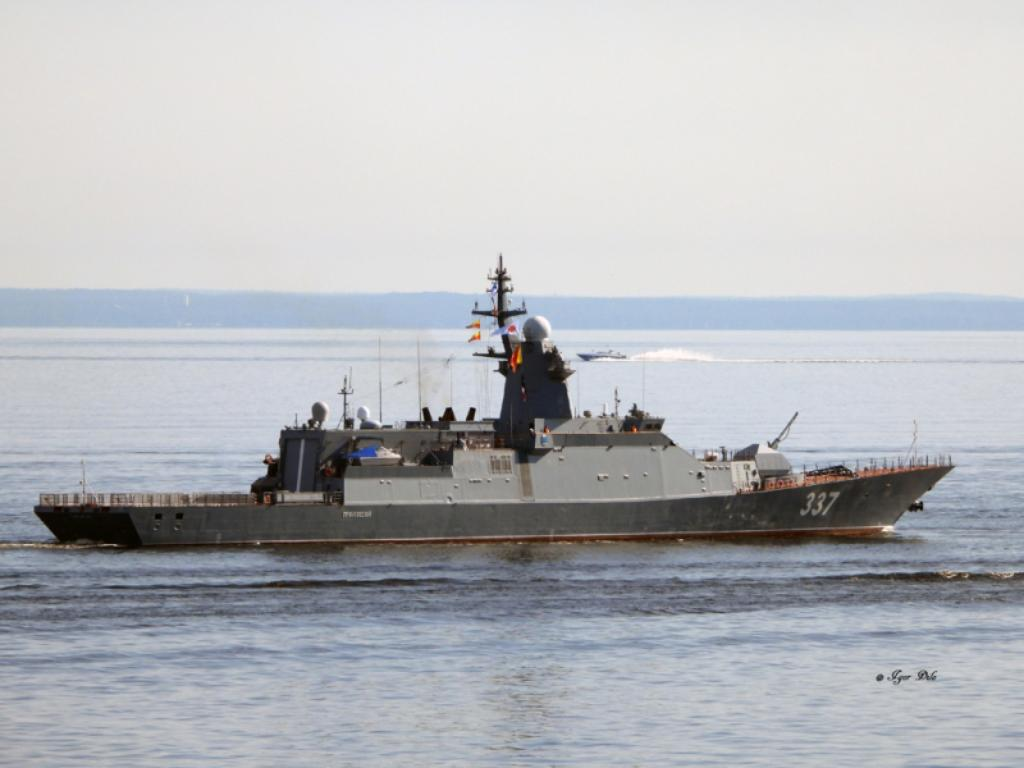Warship: (32, 249, 954, 547)
